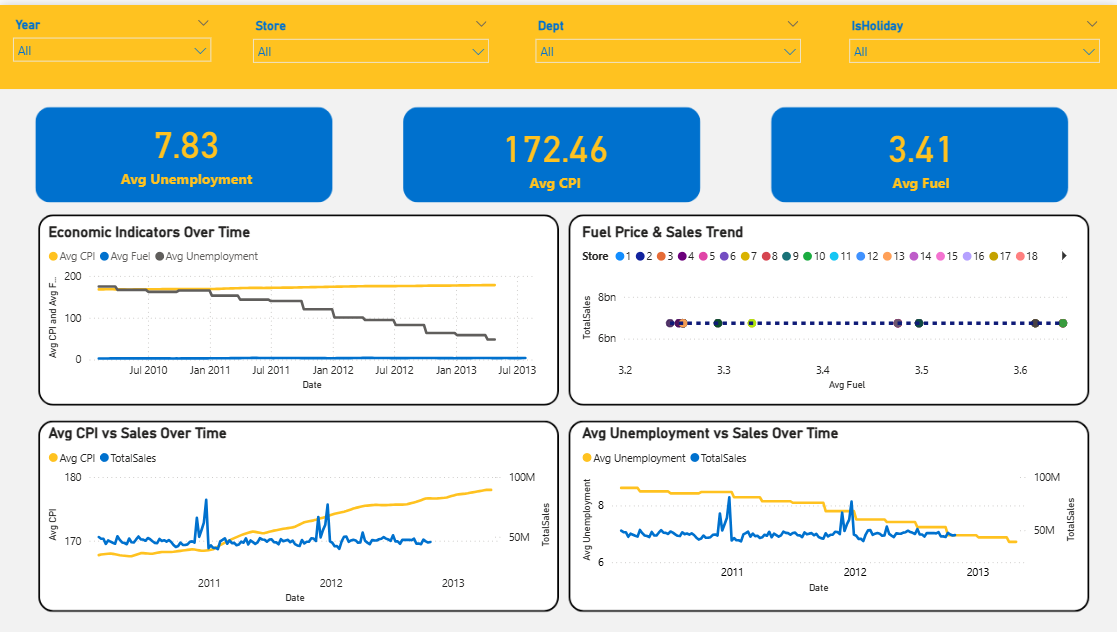

Layout of this report page (visuals, bound fields, positions):
{"tool":"powerbi","page":{"name":"Page 4","canvas":[1280,720],"ordinal":3},"visuals":[{"type":"lineChart","title":"Economic Indicators Over Time","fields":{"Category":["Dim_Date.Date"],"Y":["Category Parameter.Avg CPI","Category Parameter.Avg Fuel"],"Y2":["Category Parameter.Avg Unemployment"]},"box":[51.7,248.3,568.3,196.7],"z":0},{"type":"lineChart","title":"Avg CPI vs Sales Over Time","fields":{"Category":["Dim_Date.Date"],"Y2":["Dim_Date.TotalSales"],"Y":["Category Parameter.Avg CPI"]},"box":[51.7,478.3,585,210],"z":1000},{"type":"lineChart","title":"Avg Unemployment vs Sales Over Time","fields":{"Y":["Category Parameter.Avg Unemployment"],"Category":["Dim_Date.Date"],"Y2":["Dim_Date.TotalSales"]},"box":[661.7,478.3,575,198.3],"z":2000},{"type":"scatterChart","title":"Fuel Price & Sales Trend","fields":{"Y":["Dim_Date.TotalSales"],"Series":["features.Store"],"X":["Category Parameter.Avg Fuel"]},"box":[661.7,248.3,575,196.7],"z":3000},{"type":"slicer","fields":{"Values":["Dim_Date.Year"]},"box":[5,8.3,246.7,65],"z":4000},{"type":"slicer","fields":{"Values":["stores.Store"]},"box":[280,10,290,65],"z":5000},{"type":"slicer","fields":{"Values":["train.Dept"]},"box":[603.3,10,323.3,65],"z":6000},{"type":"slicer","fields":{"Values":["features.IsHoliday"]},"box":[961.7,10,306.7,65],"z":7000},{"type":"card","fields":{"Values":["Category Parameter.Avg CPI"]},"box":[520,120,231.7,101.7],"z":8000},{"type":"card","fields":{"Values":["Category Parameter.Avg Fuel"]},"box":[911.7,120,285,101.7],"z":9000},{"type":"card","fields":{"Values":["Category Parameter.Avg Unemployment"]},"box":[68.3,113.3,291.7,108.3],"z":10000}]}

Visuals, with their boxes in screenshot pixels (x1, y1, x2, y2), scaled from the page's 1280x720 canvas onto the 1117x632 screenshot:
"Economic Indicators Over Time" lineChart: {"x1": 45, "y1": 218, "x2": 541, "y2": 391}
"Avg CPI vs Sales Over Time" lineChart: {"x1": 45, "y1": 420, "x2": 556, "y2": 604}
"Avg Unemployment vs Sales Over Time" lineChart: {"x1": 577, "y1": 420, "x2": 1079, "y2": 594}
"Fuel Price & Sales Trend" scatterChart: {"x1": 577, "y1": 218, "x2": 1079, "y2": 391}
slicer - Dim_Date.Year: {"x1": 4, "y1": 7, "x2": 220, "y2": 64}
slicer - stores.Store: {"x1": 244, "y1": 9, "x2": 497, "y2": 66}
slicer - train.Dept: {"x1": 526, "y1": 9, "x2": 809, "y2": 66}
slicer - features.IsHoliday: {"x1": 839, "y1": 9, "x2": 1107, "y2": 66}
card - Category Parameter.Avg CPI: {"x1": 454, "y1": 105, "x2": 656, "y2": 195}
card - Category Parameter.Avg Fuel: {"x1": 796, "y1": 105, "x2": 1044, "y2": 195}
card - Category Parameter.Avg Unemployment: {"x1": 60, "y1": 99, "x2": 314, "y2": 195}
